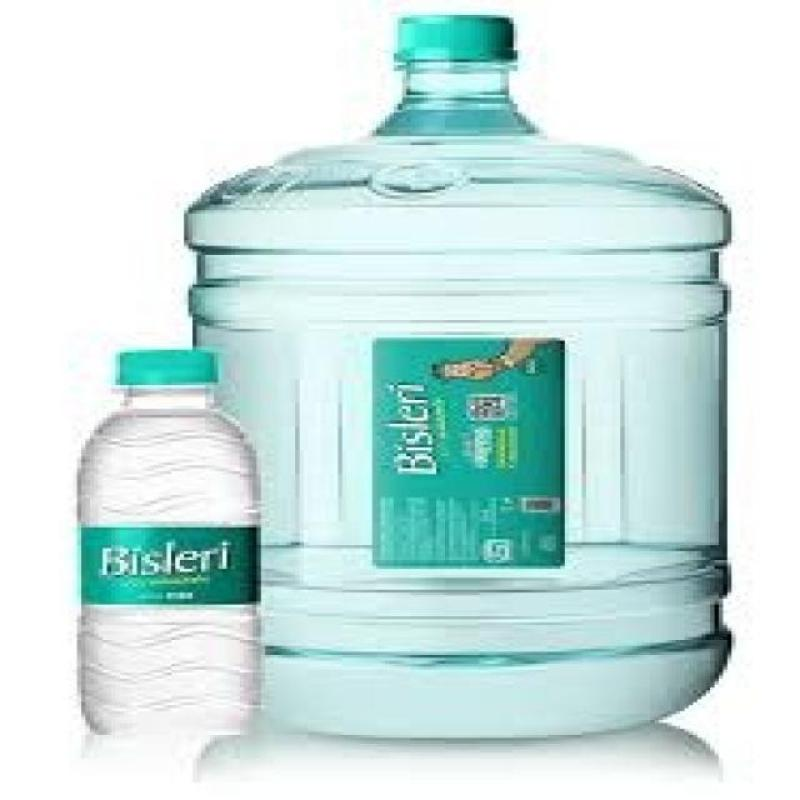botella: (76, 352, 266, 736)
